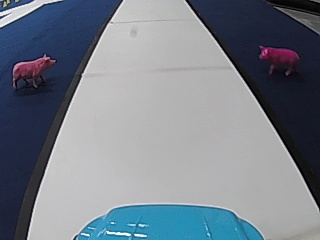pig: (8, 52, 55, 88), (256, 42, 300, 75)
